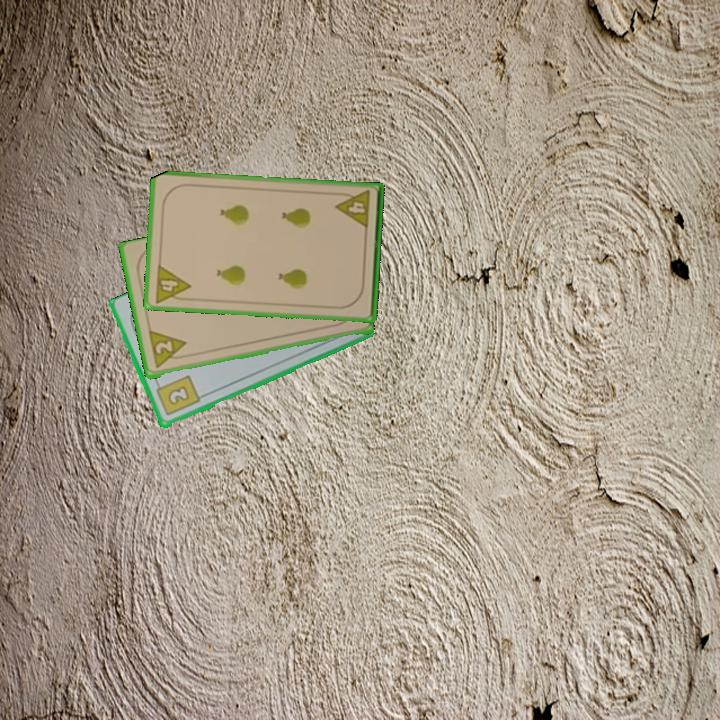2b: (152, 372, 202, 419)
2p: (145, 328, 191, 372)
4p: (151, 261, 193, 306), (333, 187, 373, 232)
